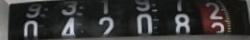digits: (95, 0, 116, 39), (22, 1, 42, 40), (134, 0, 154, 38), (59, 0, 78, 37), (205, 2, 226, 34), (174, 13, 192, 37)
